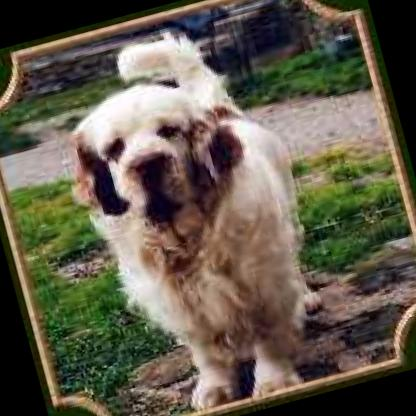clumber: (29, 2, 342, 416)
